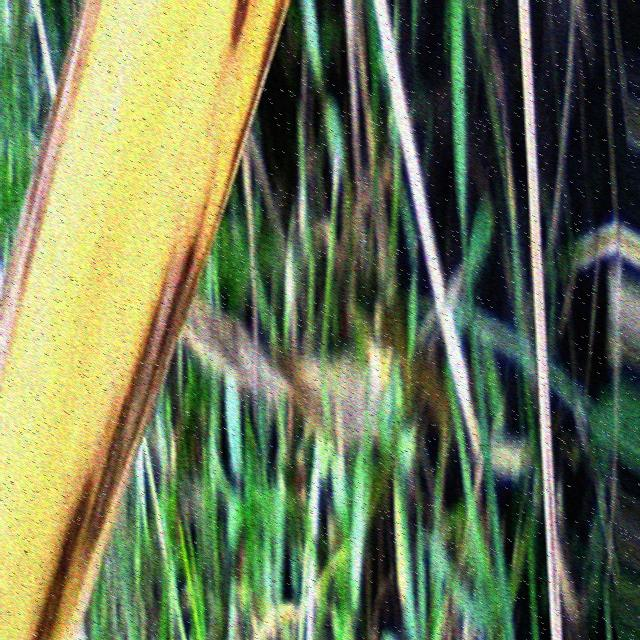NBS: (38, 473, 94, 640), (231, 0, 250, 48)
